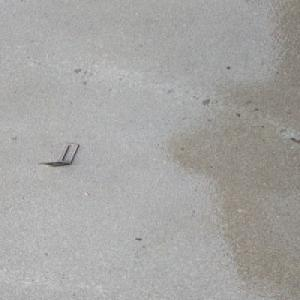MetalPart: (35, 141, 79, 167)
